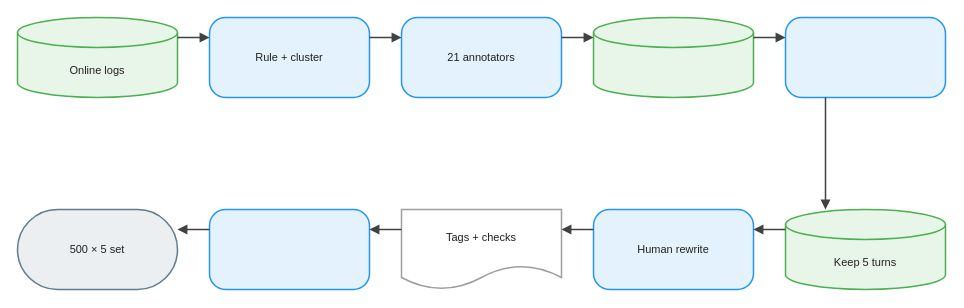
Image size: 964x308. Some labels were removed from this diagram. Each missing label, with the box of its shape:
500 sys msgs: (592, 16, 754, 98)
Expert review: (208, 208, 370, 290)
GPT-4o assist: (784, 16, 946, 98)
